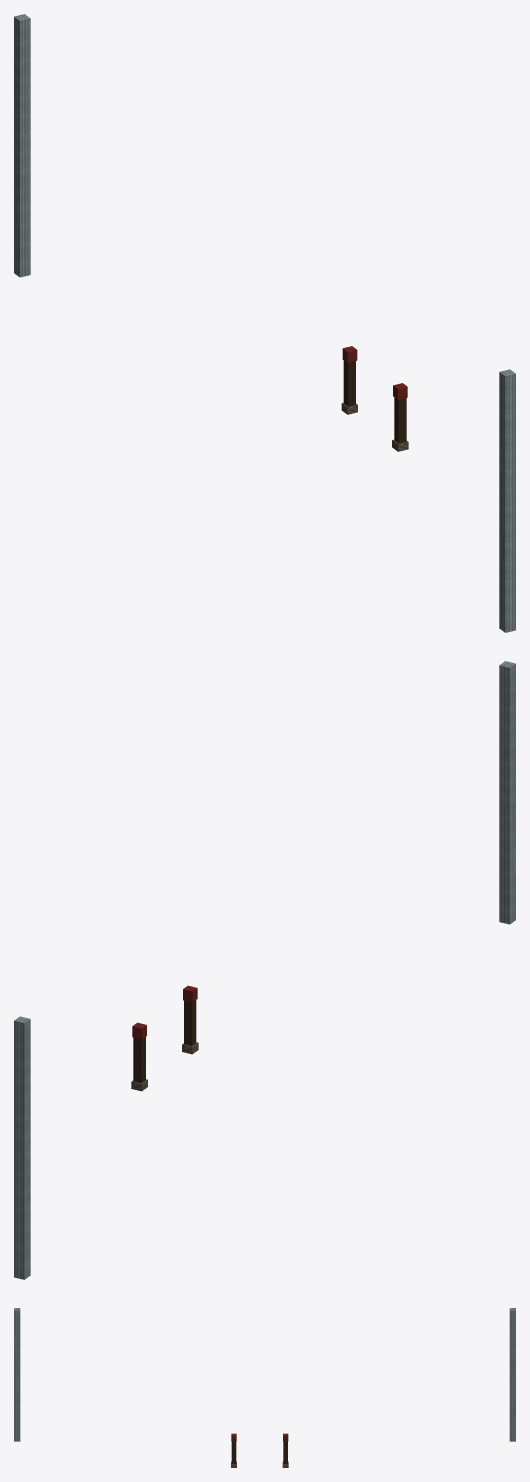
Rendered from vault_pass_posts_01.glb.
3 views of the same model, one above another, from view 1: azimuth 30°, elevation 25°; view 2: azimuth 150°, elevation 25°; view 3: azimuth 270°, elevation 25° (orthographic). The views are drawn at different scales.
Visible parts, largest first — view 1: vault_pass_posts_01; view 2: vault_pass_posts_01; view 3: vault_pass_posts_01.
Part boxes in pixels (x1,y1,x2,y2): vault_pass_posts_01: (14,14,515,632); vault_pass_posts_01: (14,661,515,1279); vault_pass_posts_01: (14,1308,515,1467).
Bounding box in the file's own units: 6.6 × 14 × 48.6.
4 materials, 4 textured.
